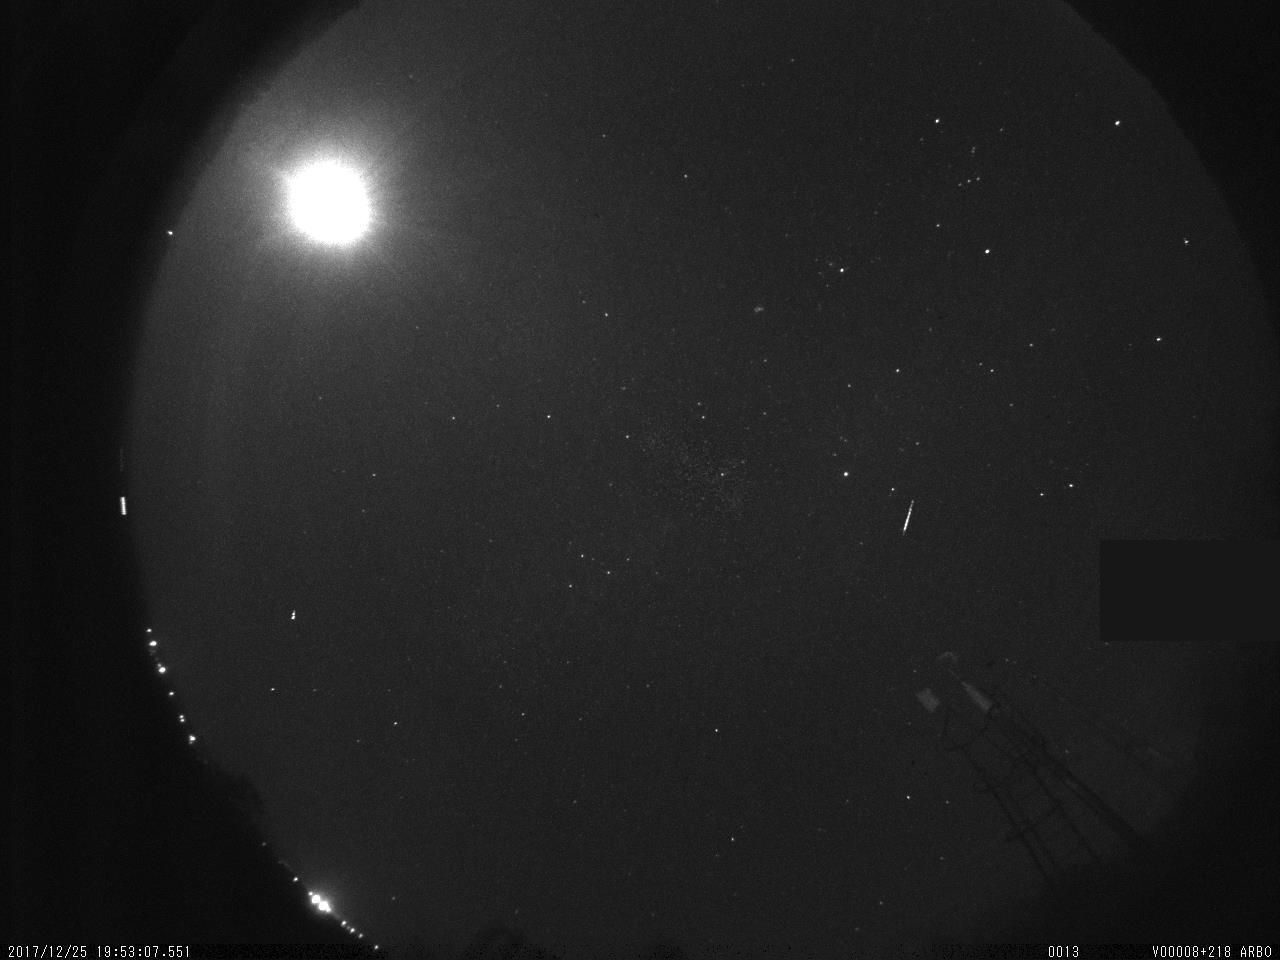meteor: (898, 494, 928, 538)
